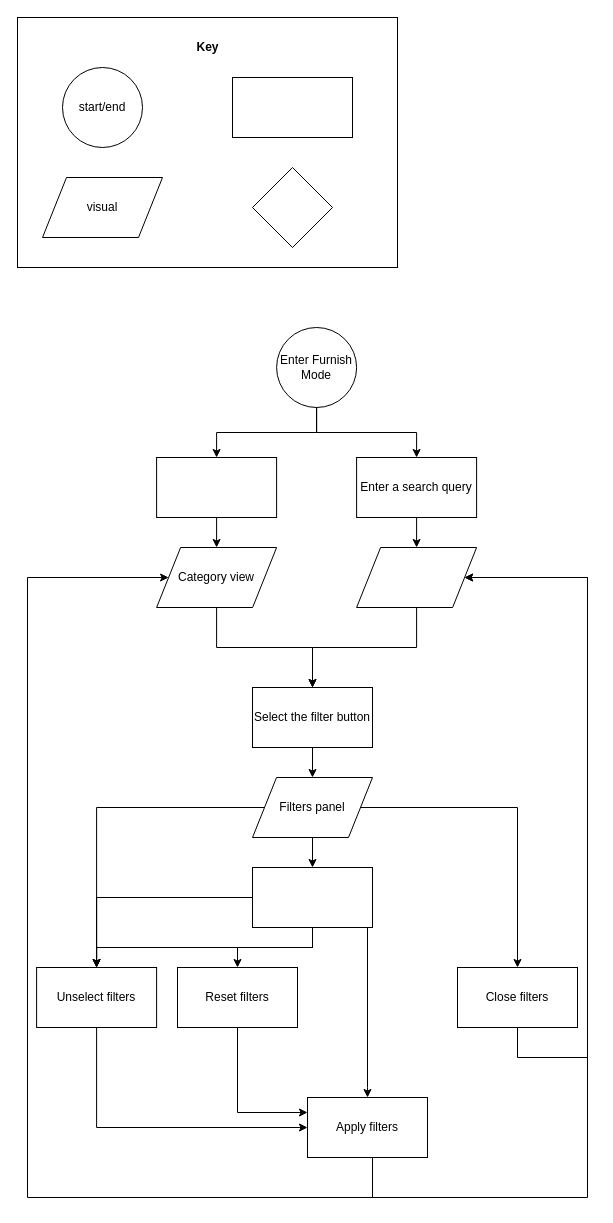
Some shapes in this 613 by 1223 pixel diagram are drawn without their labels. The shapes that lost their labels are listed below. From the top down, each one's centre as x and y in pixels, then its label:
the point at 292,107: action
the point at 292,207: decision
the point at 216,487: Select a category
the point at 416,577: Search results view
the point at 312,897: Select desired filters
